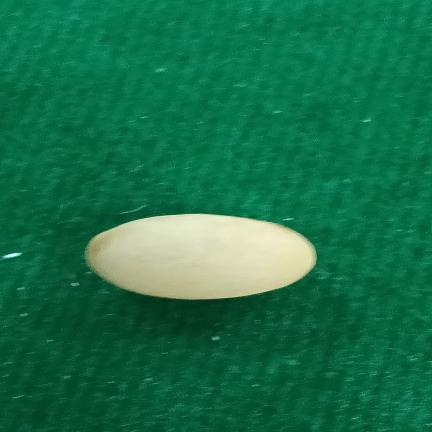parchment: (85, 214, 316, 300)
